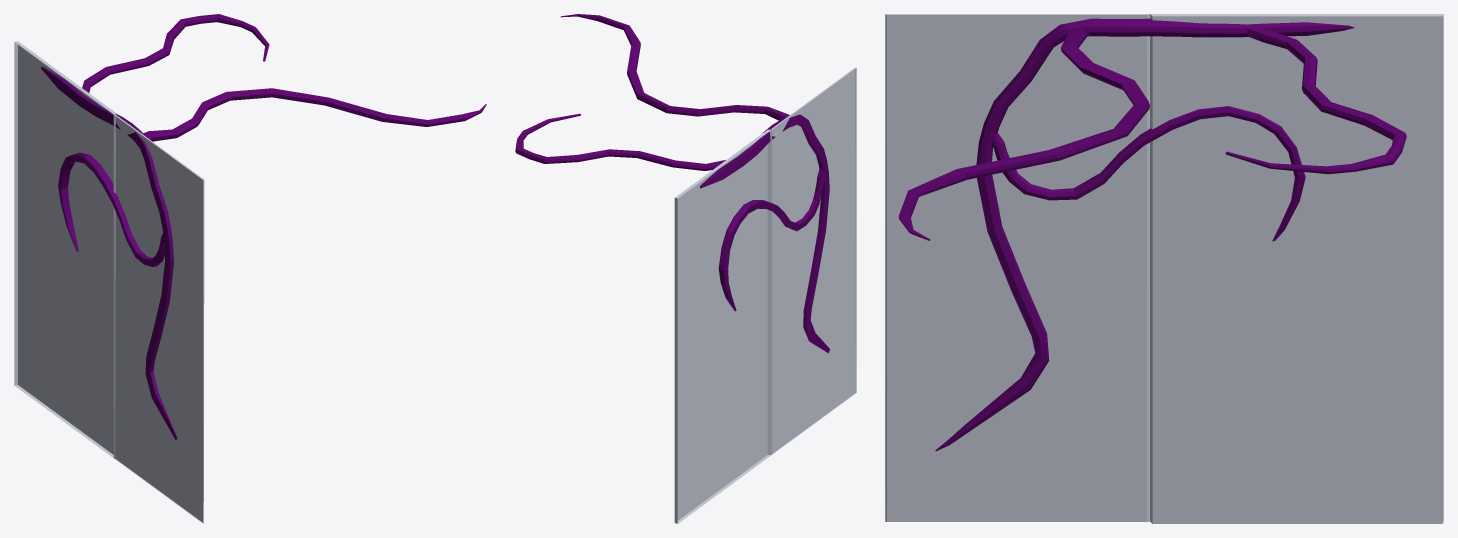
Rendered from Pared_Corrupta_03.fbx.
3 views of the same model, side by side, from view 1: azimuth 30°, elevation 25°; view 2: azimuth 150°, elevation 25°; view 3: azimuth 270°, elevation 25° (orthographic). The views are drawn at different scales.
Parts seen in each view (by area): view 1: polySurface58, pCube177; view 2: polySurface58, pCube177; view 3: polySurface58, pCube177.
Part boxes in pixels (x1,y1,x2,y2): polySurface58: (14, 41, 204, 523); pCube177: (41, 14, 486, 440); polySurface58: (674, 67, 856, 523); pCube177: (515, 14, 829, 353); polySurface58: (885, 14, 1443, 523); pCube177: (898, 18, 1406, 451).
Size of the model in its own units: 5.5 by 6 by 5.98.
